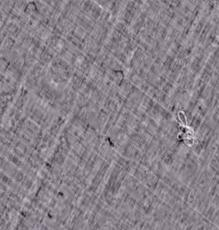snag: (172, 104, 205, 154)
